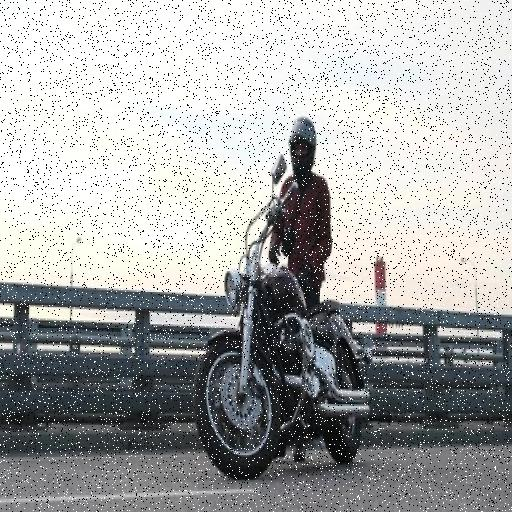Helmet: (288, 113, 315, 180)
Motor: (196, 258, 373, 473)
